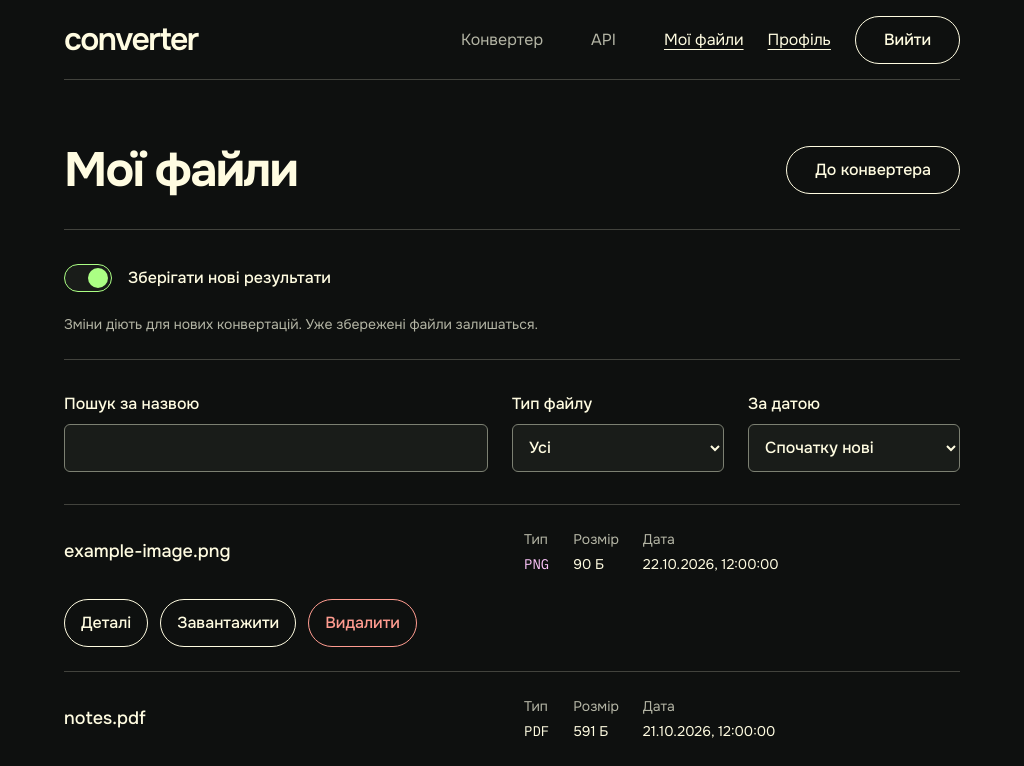
Test: distinguishes retryable download errors from terminal denial and downloads independent Blob bytes
Check: the element "example-image.png" is shown, box [64, 530, 779, 647]
Click the button "Завантажити" below "example-image.png" at (228, 623), box [160, 599, 296, 647]
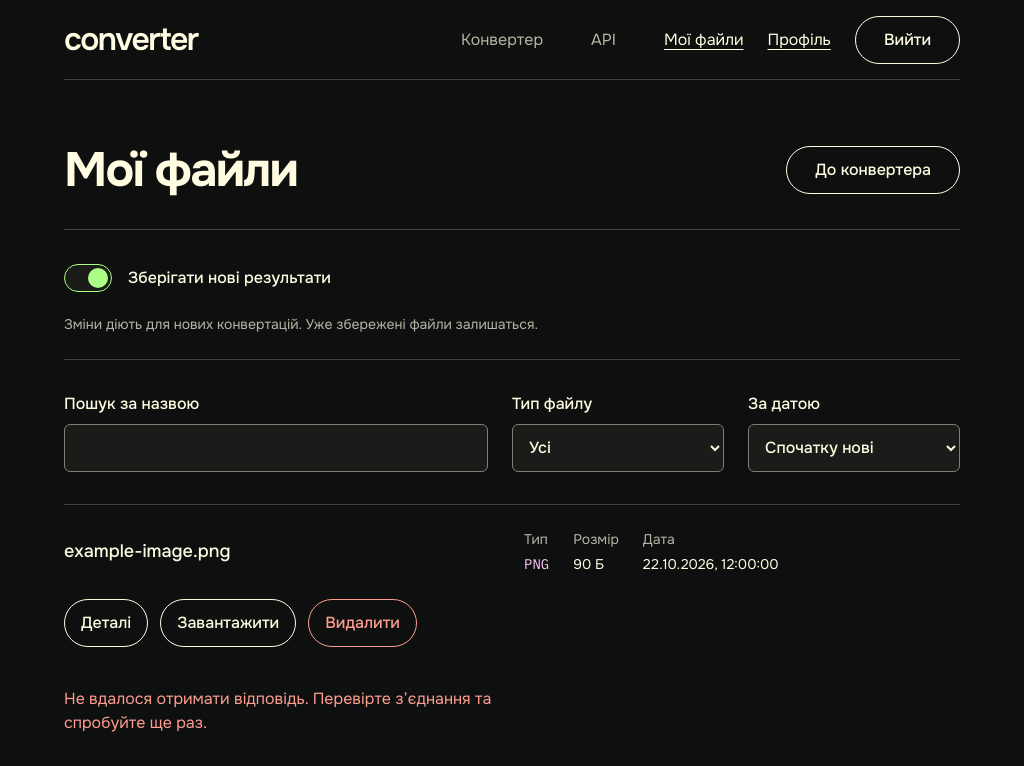
Check: the message shows "Перевірте з’єднання", box [64, 688, 491, 733]
Click the button "Завантажити" at (228, 623), box [160, 599, 296, 647]
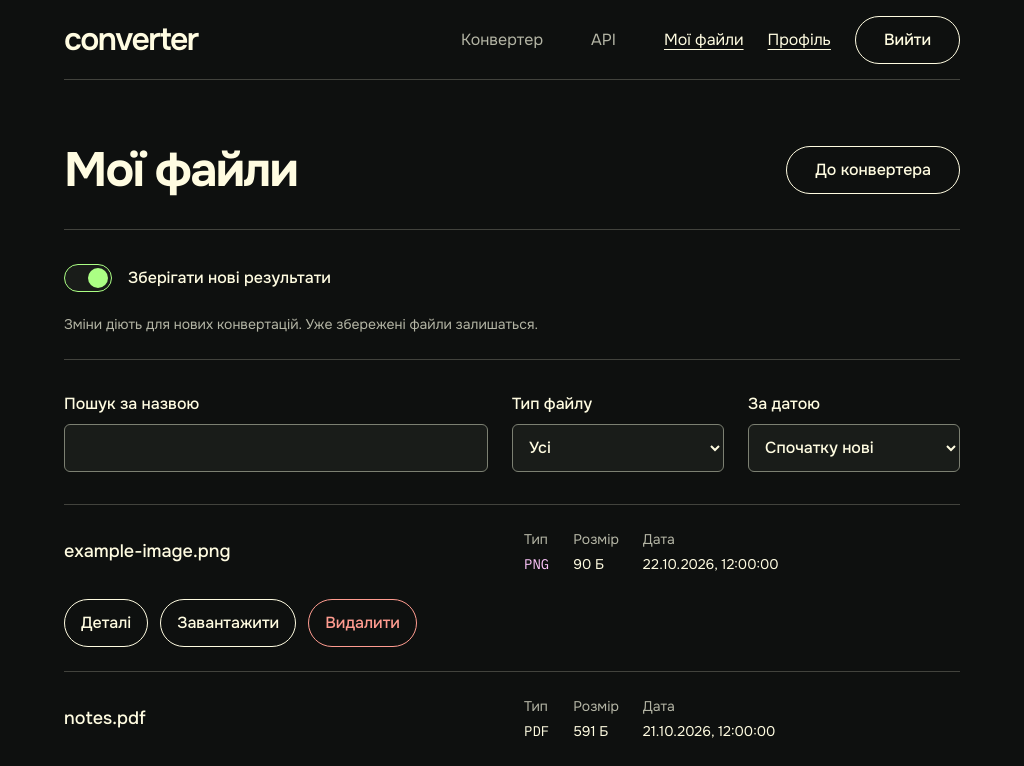
Click the button "Завантажити" below "example-image.png" at (228, 623), box [160, 599, 296, 647]
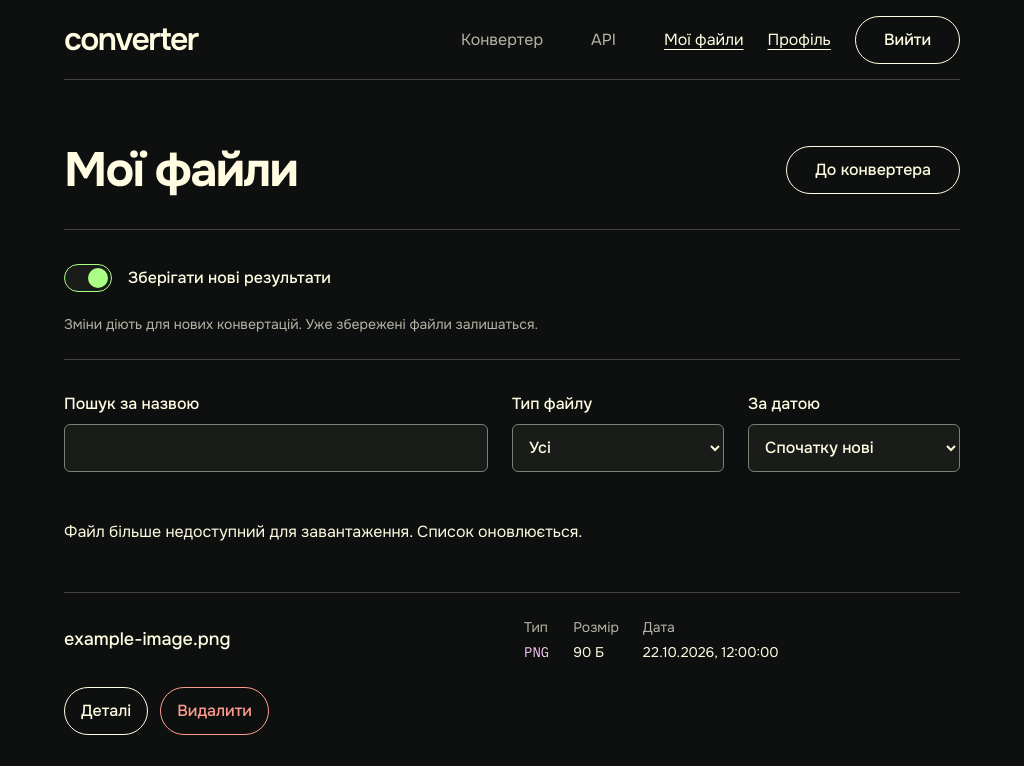
Check: the button "Завантажити" is not shown
Check: the text "Файл більше недоступний для завантаження. Список оновлюється." is shown, box [64, 521, 582, 542]
